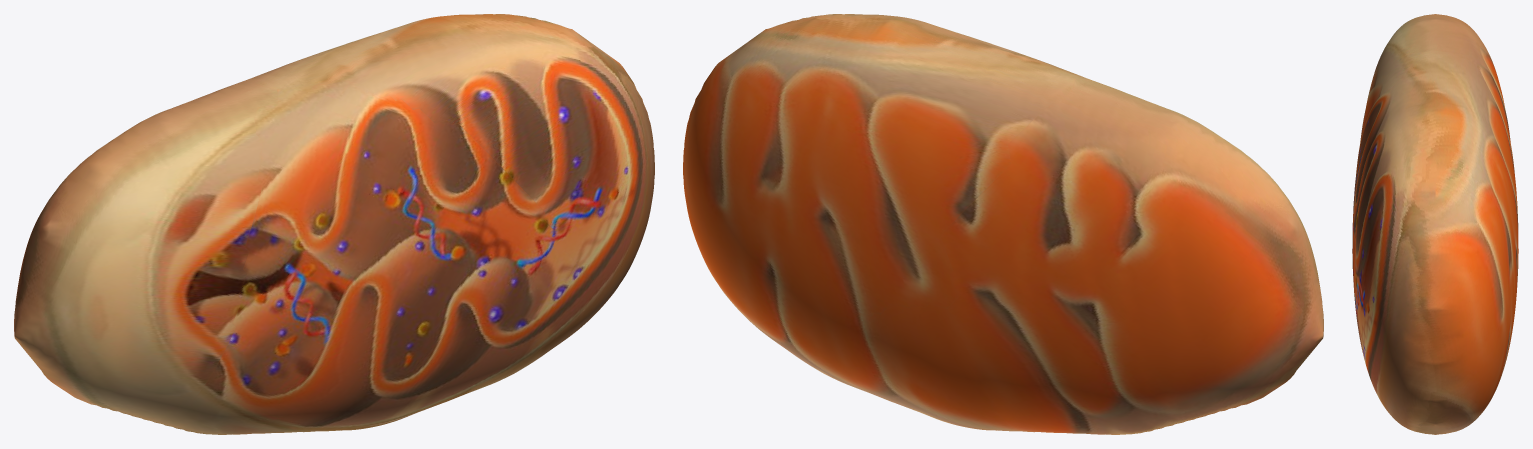
The model's file is sketchfab-mitochondrion-cristae.glb.
The picture shows the model from 3 angles, left to right: view 1: azimuth 30°, elevation 25°; view 2: azimuth 150°, elevation 25°; view 3: azimuth 270°, elevation 25°; orthographic projection. The views are drawn at different scales.
Visible parts, largest first — view 1: Object_5; view 2: Object_5; view 3: Object_5.
Part boxes in pixels (x1,y1,x2,y2): Object_5: (14,14,654,434); Object_5: (683,14,1323,434); Object_5: (1352,14,1518,434).
Bounding box in the file's own units: 0.4272 × 0.2441 × 0.1156.
1 material, 1 textured.
